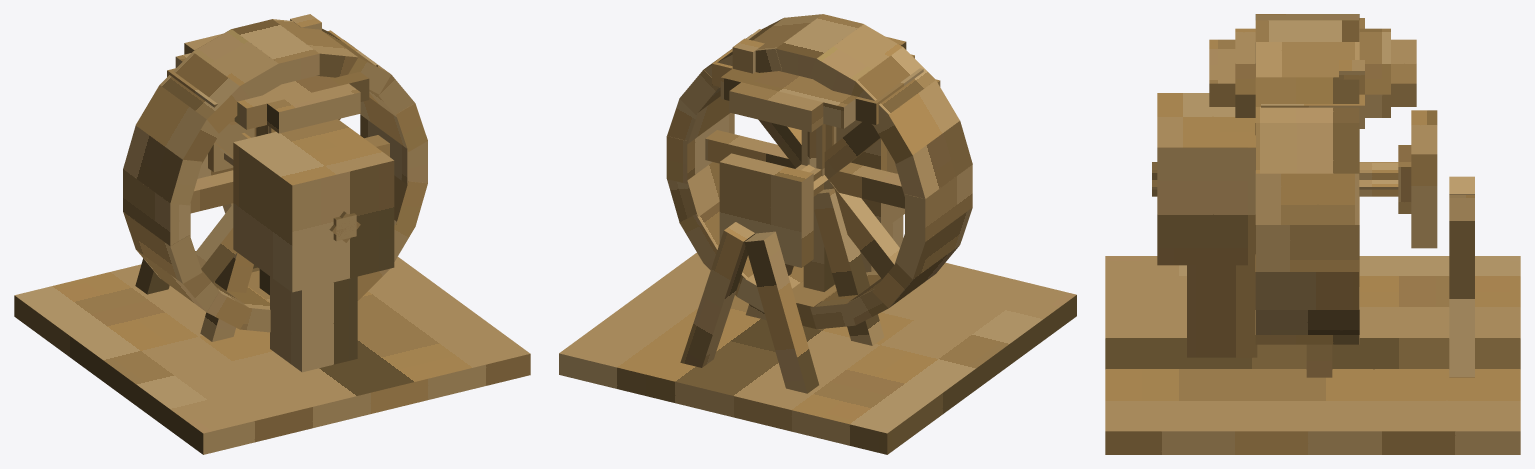
File: handcranked_generator.obj
3 views of the same model, side by side, from view 1: azimuth 30°, elevation 25°; view 2: azimuth 150°, elevation 25°; view 3: azimuth 270°, elevation 25° (orthographic). The views are drawn at different scales.
Parts seen in each view (by area): view 1: base, fly_wheel, hand_wheel; view 2: base, fly_wheel, hand_wheel; view 3: base, fly_wheel, hand_wheel.
Part boxes in pixels (bbox=[...]): base: bbox=[14, 119, 530, 454]; fly_wheel: bbox=[123, 19, 427, 332]; hand_wheel: bbox=[167, 14, 377, 136]; base: bbox=[559, 79, 1076, 454]; fly_wheel: bbox=[666, 14, 972, 329]; hand_wheel: bbox=[712, 29, 923, 176]; base: bbox=[1105, 93, 1520, 454]; fly_wheel: bbox=[1152, 14, 1437, 344]; hand_wheel: bbox=[1209, 18, 1416, 128].
Size of the model in its own units: 1 by 0.8941 by 1.
